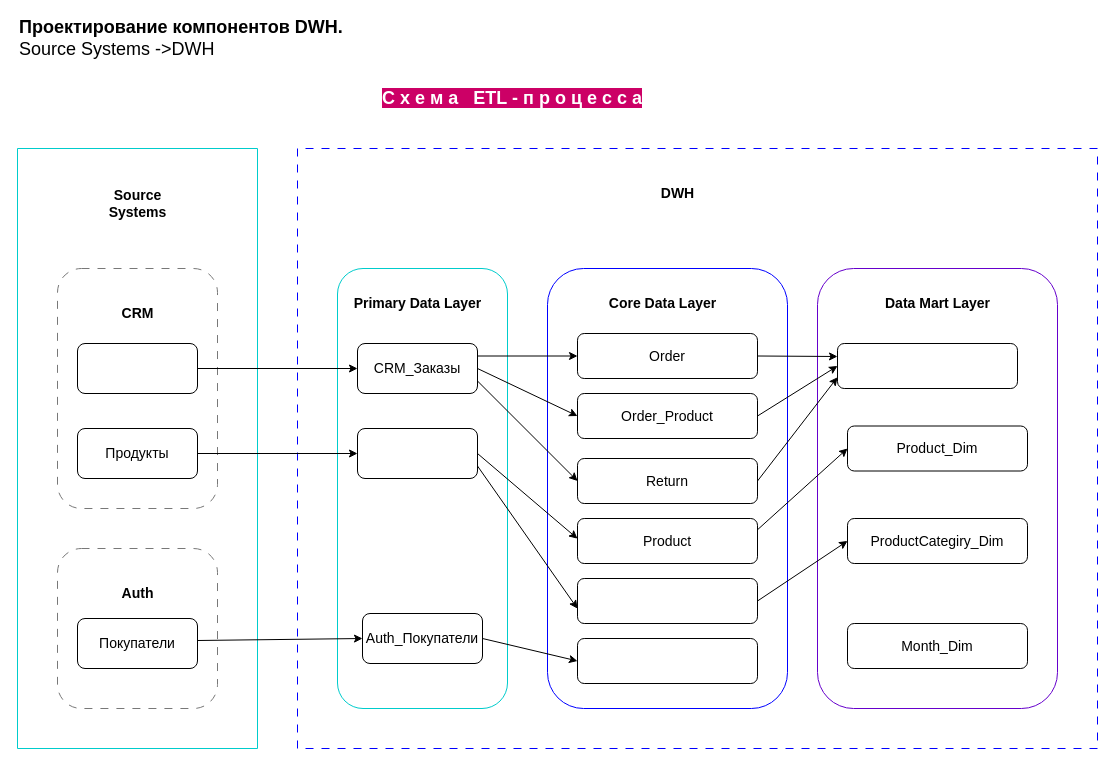
This 1115x766 diagram has some shape labels left out. The shapes that lost their labels are listed below. From the top down, each one's centre as x and y in pixels, then its label:
At point 137,368: "Заказы".
At point 927,365: "Sales_Fact".
At point 417,453: "CRM_Продукты".
At point 667,601: "Product_Category".
At point 667,661: "Customer".
